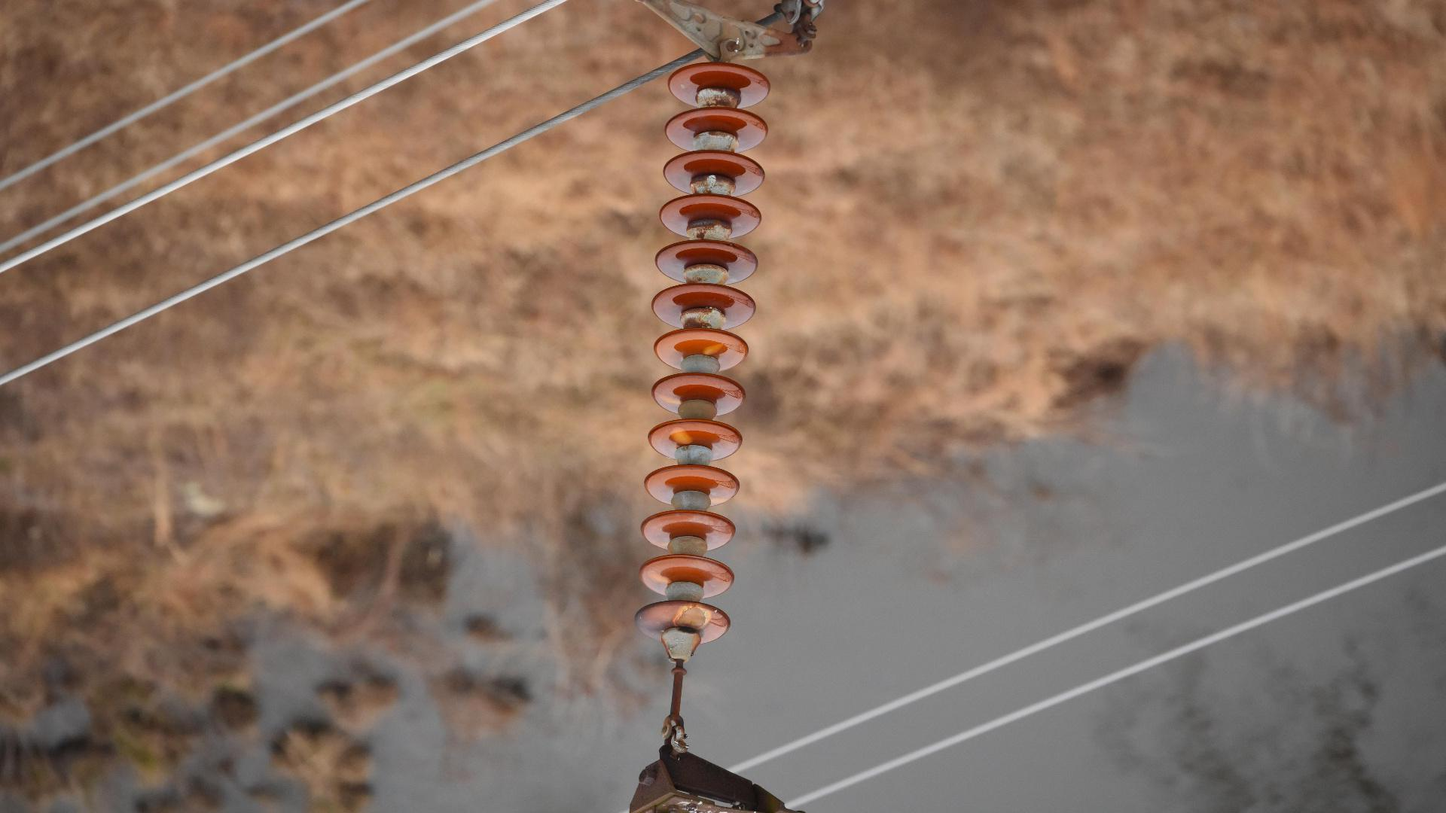insulator: (631, 56, 775, 652)
insulator_flashover: (672, 603, 712, 632), (668, 423, 694, 446), (702, 340, 727, 356)
